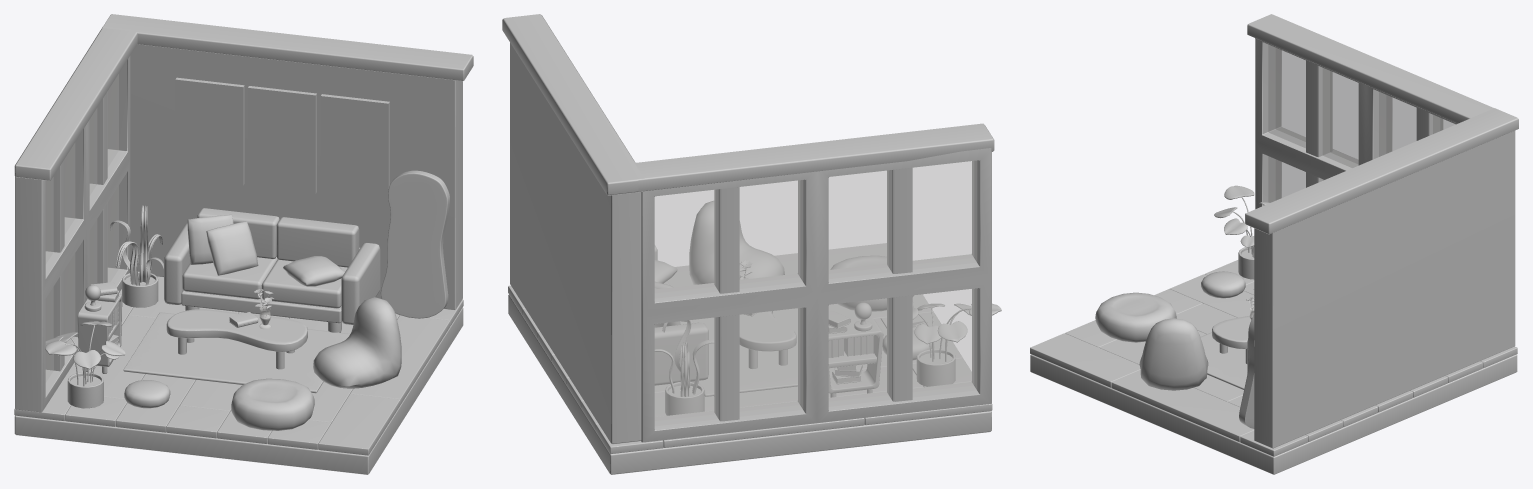
File: Living_Room_27.fbx
3 views of the same model, side by side, from view 1: azimuth 30°, elevation 25°; view 2: azimuth 150°, elevation 25°; view 3: azimuth 270°, elevation 25° (orthographic). The views are drawn at different scales.
Visible parts, largest first — view 1: Room_27_Wall_2, Room_27_Wall_1, Room_27_Floor_2, Room_27_Couch_1, Room_27_Floor_1, Room_27_Mirror_1, Room_27_Carpet_1, Room_27_Painting_2, Room_27_Painting_3, Room_27_Painting_1, Room_27_Baen_bag_1, Room_27_Table_1 (+8 smaller); view 2: Room_27_Wall_1, Room_27_Wall_2, Room_27_Floor_1, Room_27_Floor_2, Room_27_Carpet_1, Room_27_Baen_bag_1, Room_27_Plant_2, Room_27_Couch_1, Room_27_Plant_1, Room_27_Table_1, Room_27_Shelf_1, Room_27_Baen_bag_2 (+1 smaller); view 3: Room_27_Wall_2, Room_27_Wall_1, Room_27_Floor_2, Room_27_Floor_1, Room_27_Baen_bag_1, Room_27_Baen_bag_2, Room_27_Carpet_1, Room_27_Plant_2, Room_27_Table_1, Room_27_Mirror_1, Room_27_Pillow_2.
Boxes of the visible parts, <box> form: Room_27_Wall_2: <box>102,14,473,310</box>; Room_27_Wall_1: <box>14,27,137,412</box>; Room_27_Floor_2: <box>14,276,463,455</box>; Room_27_Couch_1: <box>164,208,380,332</box>; Room_27_Floor_1: <box>14,307,463,474</box>; Room_27_Mirror_1: <box>380,170,449,318</box>; Room_27_Carpet_1: <box>123,312,350,393</box>; Room_27_Painting_2: <box>175,77,244,185</box>; Room_27_Painting_3: <box>320,94,389,201</box>; Room_27_Painting_1: <box>248,86,316,193</box>; Room_27_Baen_bag_1: <box>313,297,401,388</box>; Room_27_Table_1: <box>166,309,307,369</box>; Room_27_Wall_1: <box>635,123,994,442</box>; Room_27_Wall_2: <box>502,14,644,444</box>; Room_27_Floor_1: <box>508,295,991,474</box>; Room_27_Floor_2: <box>508,243,992,453</box>; Room_27_Carpet_1: <box>692,308,834,396</box>; Room_27_Baen_bag_1: <box>689,201,784,284</box>; Room_27_Plant_2: <box>912,302,1001,386</box>; Room_27_Couch_1: <box>654,245,708,385</box>; Room_27_Plant_1: <box>654,320,714,415</box>; Room_27_Table_1: <box>739,311,796,368</box>; Room_27_Shelf_1: <box>828,318,883,397</box>; Room_27_Baen_bag_2: <box>830,255,913,311</box>; Room_27_Wall_2: <box>1245,108,1518,448</box>; Room_27_Wall_1: <box>1247,14,1493,208</box>; Room_27_Floor_2: <box>1030,260,1517,456</box>; Room_27_Floor_1: <box>1030,354,1517,474</box>; Room_27_Baen_bag_1: <box>1139,318,1208,390</box>; Room_27_Baen_bag_2: <box>1095,292,1176,342</box>; Room_27_Carpet_1: <box>1200,332,1247,389</box>; Room_27_Plant_2: <box>1214,185,1269,279</box>; Room_27_Table_1: <box>1212,315,1250,363</box>; Room_27_Mirror_1: <box>1239,314,1254,428</box>; Room_27_Pillow_2: <box>1201,271,1245,298</box>.
Size of the model in its own units: 718 by 408 by 707.
